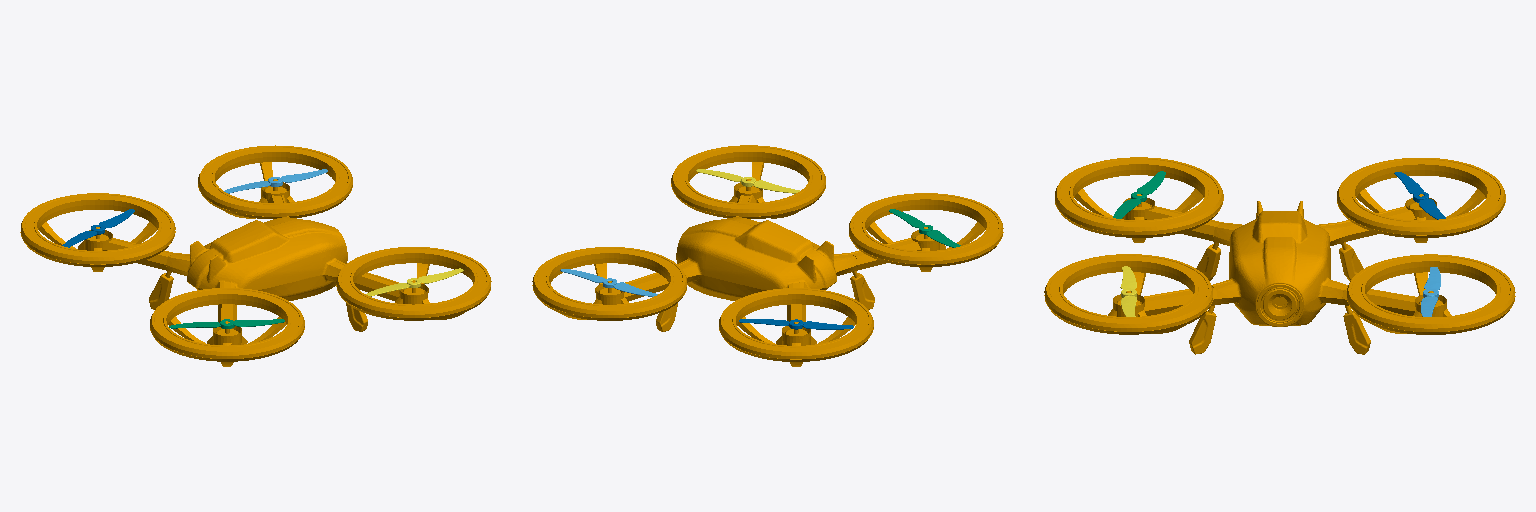
robot.urdf — robot:
<?xml version="1.0" encoding="UTF-8"?>
<robot name="robot">
  <link name="base_link">
    <inertial>
      <mass value="0.49469935"/>
      <origin xyz="0.00325764 -0.00000127 0.00394186" rpy="0 0 0"/>
      <inertia ixx="0.00048847" ixy="3.8e-7" ixz="0.00002804" iyy="0.0010395" iyz="1.1e-7" izz="0.00121702"/>
    </inertial>
    <visual>
      <origin xyz="0 0 0" rpy="0 0 0"/>
      <geometry>
        <mesh filename="meshes/base_link.stl"/>
      </geometry>
    </visual>
    <collision>
      <origin xyz="0 0 0" rpy="0 0 0"/>
      <geometry>
        <mesh filename="meshes/base_link.stl"/>
      </geometry>
    </collision>
  </link>
  <link name="Link_5">
    <inertial>
      <mass value="0.00132516"/>
      <origin xyz="-2.1e-7 -3e-8 -0.00225319" rpy="0 0 0"/>
      <inertia ixx="3e-8" ixy="8e-8" ixz="0" iyy="0.00000101" iyz="0" izz="0.00000104"/>
    </inertial>
    <visual>
      <origin xyz="0 0 0" rpy="0 0 0"/>
      <geometry>
        <mesh filename="meshes/Link_5.stl"/>
      </geometry>
    </visual>
    <collision>
      <origin xyz="0 0 0" rpy="0 0 0"/>
      <geometry>
        <mesh filename="meshes/Link_5.stl"/>
      </geometry>
    </collision>
  </link>
  <link name="Link_6">
    <inertial>
      <mass value="0.00132516"/>
      <origin xyz="2e-8 2.1e-7 -0.00225319" rpy="0 0 0"/>
      <inertia ixx="8.5e-7" ixy="-3.7e-7" ixz="0" iyy="1.9e-7" iyz="0" izz="0.00000104"/>
    </inertial>
    <visual>
      <origin xyz="0 0 0" rpy="0 0 0"/>
      <geometry>
        <mesh filename="meshes/Link_6.stl"/>
      </geometry>
    </visual>
    <collision>
      <origin xyz="0 0 0" rpy="0 0 0"/>
      <geometry>
        <mesh filename="meshes/Link_6.stl"/>
      </geometry>
    </collision>
  </link>
  <link name="Link_7">
    <inertial>
      <mass value="0.00132516"/>
      <origin xyz="-2e-7 -7e-8 -0.00225319" rpy="0 0 0"/>
      <inertia ixx="2e-8" ixy="-2e-8" ixz="0" iyy="0.00000102" iyz="0" izz="0.00000104"/>
    </inertial>
    <visual>
      <origin xyz="0 0 0" rpy="0 0 0"/>
      <geometry>
        <mesh filename="meshes/Link_7.stl"/>
      </geometry>
    </visual>
    <collision>
      <origin xyz="0 0 0" rpy="0 0 0"/>
      <geometry>
        <mesh filename="meshes/Link_7.stl"/>
      </geometry>
    </collision>
  </link>
  <link name="Link_8">
    <inertial>
      <mass value="0.00132516"/>
      <origin xyz="-1.2e-7 1.7e-7 -0.00225319" rpy="0 0 0"/>
      <inertia ixx="8.9e-7" ixy="3.3e-7" ixz="0" iyy="1.5e-7" iyz="0" izz="0.00000104"/>
    </inertial>
    <visual>
      <origin xyz="0 0 0" rpy="0 0 0"/>
      <geometry>
        <mesh filename="meshes/Link_8.stl"/>
      </geometry>
    </visual>
    <collision>
      <origin xyz="0 0 0" rpy="0 0 0"/>
      <geometry>
        <mesh filename="meshes/Link_8.stl"/>
      </geometry>
    </collision>
  </link>
  <joint name="motor1" type="revolute">
    <parent link="base_link"/>
    <child link="Link_5"/>
    <origin xyz="0.10005516 0.14828502 0.01908192" rpy="-0.00079633 -6.3e-7 -0.00079633"/>
    <axis xyz="0 0 1"/>
    <limit lower="-3.14159" upper="3.14159" effort="10" velocity="5000"/>
  </joint>
  <joint name="motor3" type="revolute">
    <parent link="base_link"/>
    <child link="Link_6"/>
    <origin xyz="-0.1251103 -0.13844915 0.01931026" rpy="6.3e-7 -0.00079633 -1.57159265"/>
    <axis xyz="0 0 1"/>
    <limit lower="-3.14159" upper="3.14159" effort="10" velocity="5000"/>
  </joint>
  <joint name="motor2" type="revolute">
    <parent link="base_link"/>
    <child link="Link_7"/>
    <origin xyz="0.09981889 -0.14841361 0.01931819" rpy="-0.00079633 -6.3e-7 -0.00079633"/>
    <axis xyz="0 0 -1"/>
    <limit lower="-3.14159" upper="3.14159" effort="10" velocity="5000"/>
  </joint>
  <joint name="motor4" type="revolute">
    <parent link="base_link"/>
    <child link="Link_8"/>
    <origin xyz="-0.12488962 0.13867881 0.01908957" rpy="6.3e-7 -0.00079633 -1.57159265"/>
    <axis xyz="0 0 -1"/>
    <limit lower="-3.14159" upper="3.14159" effort="10" velocity="5000"/>
  </joint>
</robot>

--- Facts derived from the render (not from the file) ---
Views: 3 orthographic renders of the robot side by side, from view 1: azimuth 30°, elevation 25°; view 2: azimuth 150°, elevation 25°; view 3: azimuth 270°, elevation 25°.
Robot: robot — 5 links, 4 joints (4 revolute); root link base_link; default pose: all joints at 0.
Links seen in each view (by area): view 1: base_link, Link_6, Link_5, Link_7, Link_8; view 2: base_link, Link_8, Link_7, Link_5, Link_6; view 3: base_link, Link_6, Link_8, Link_7, Link_5.
Boxes of the visible links, bbox=[...] form: base_link: bbox=[20, 145, 491, 366]; Link_6: bbox=[169, 319, 284, 328]; Link_5: bbox=[224, 169, 327, 193]; Link_7: bbox=[366, 268, 463, 296]; Link_8: bbox=[62, 209, 134, 247]; base_link: bbox=[532, 145, 1003, 366]; Link_8: bbox=[739, 319, 853, 329]; Link_7: bbox=[696, 169, 799, 193]; Link_5: bbox=[560, 269, 657, 296]; Link_6: bbox=[889, 209, 960, 247]; base_link: bbox=[1044, 157, 1515, 354]; Link_6: bbox=[1113, 171, 1165, 218]; Link_8: bbox=[1394, 172, 1445, 219]; Link_7: bbox=[1120, 266, 1136, 316]; Link_5: bbox=[1421, 267, 1440, 316].
Bounding box of the posed robot: 0.3911 × 0.4626 × 0.1073 m (x, y, z).
5 mesh visuals loaded from 5 distinct referenced files (5 binary STL).
